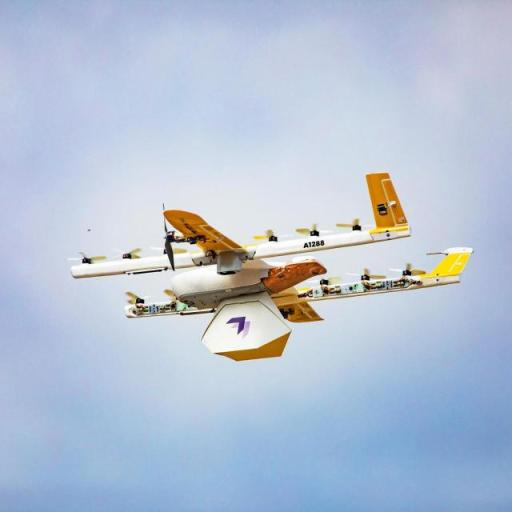uav: (66, 170, 472, 367)
